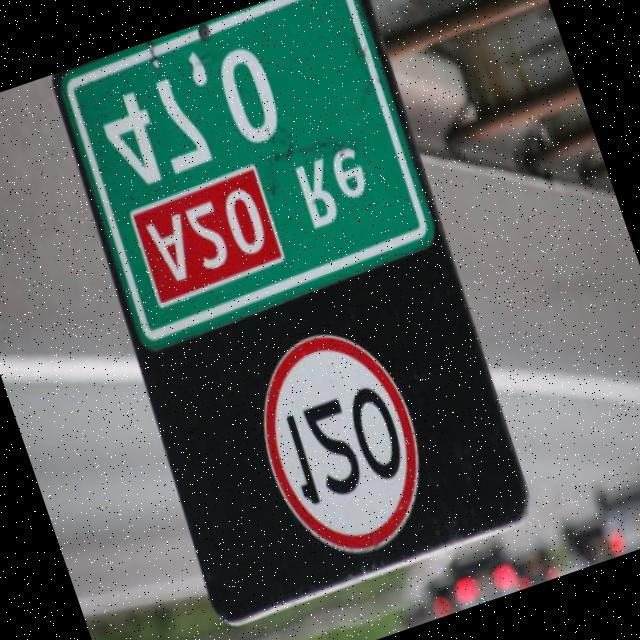speed_limit_120: (230, 310, 452, 576)
